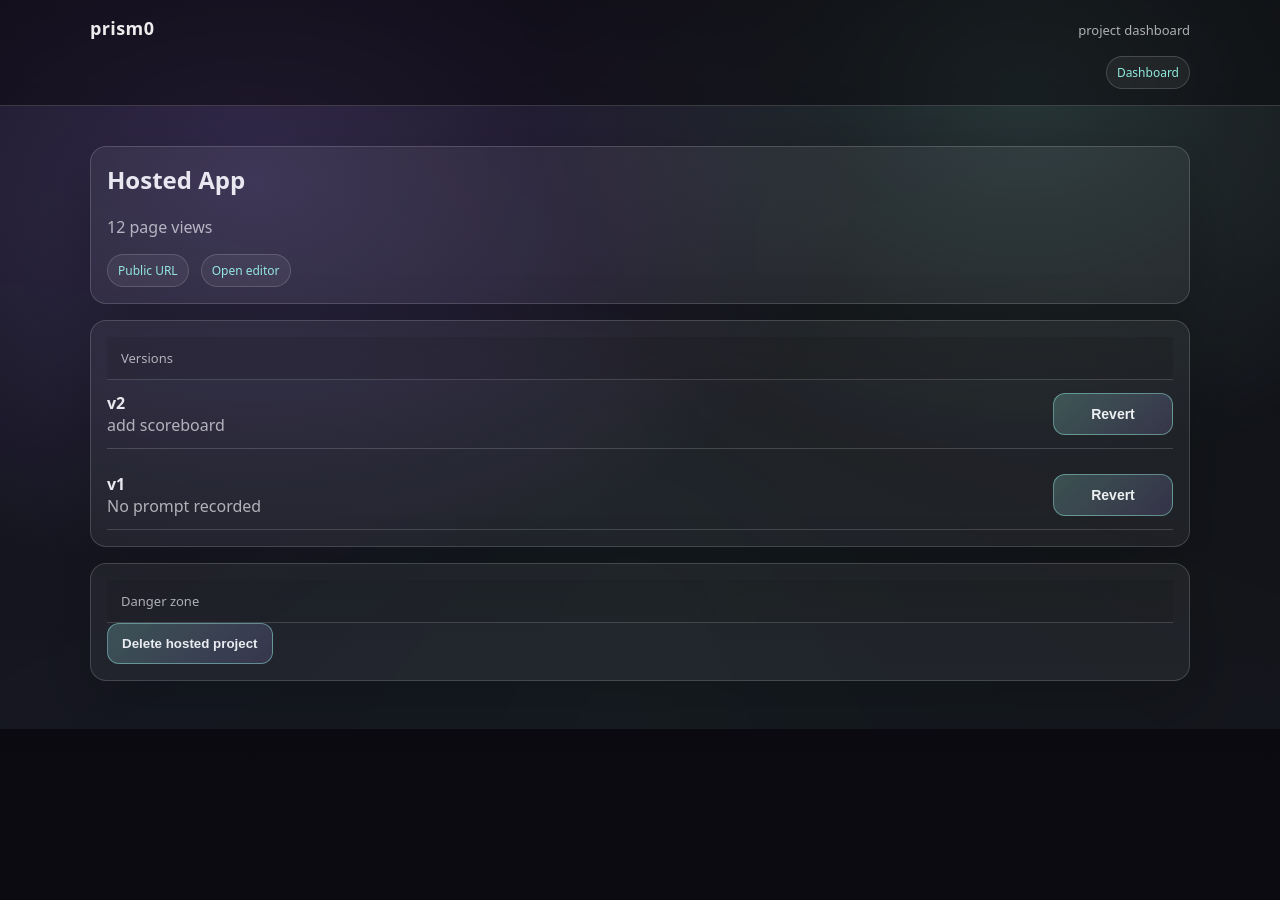
it: ProjectManagePage › shows revert errors from non-error rejections
Expected: the heading "Hosted App" is shown, [107,163,245,196]
Click the button "Revert" in the row of "add scoreboard".
click(1113, 414)  # box [1053,393,1173,435]
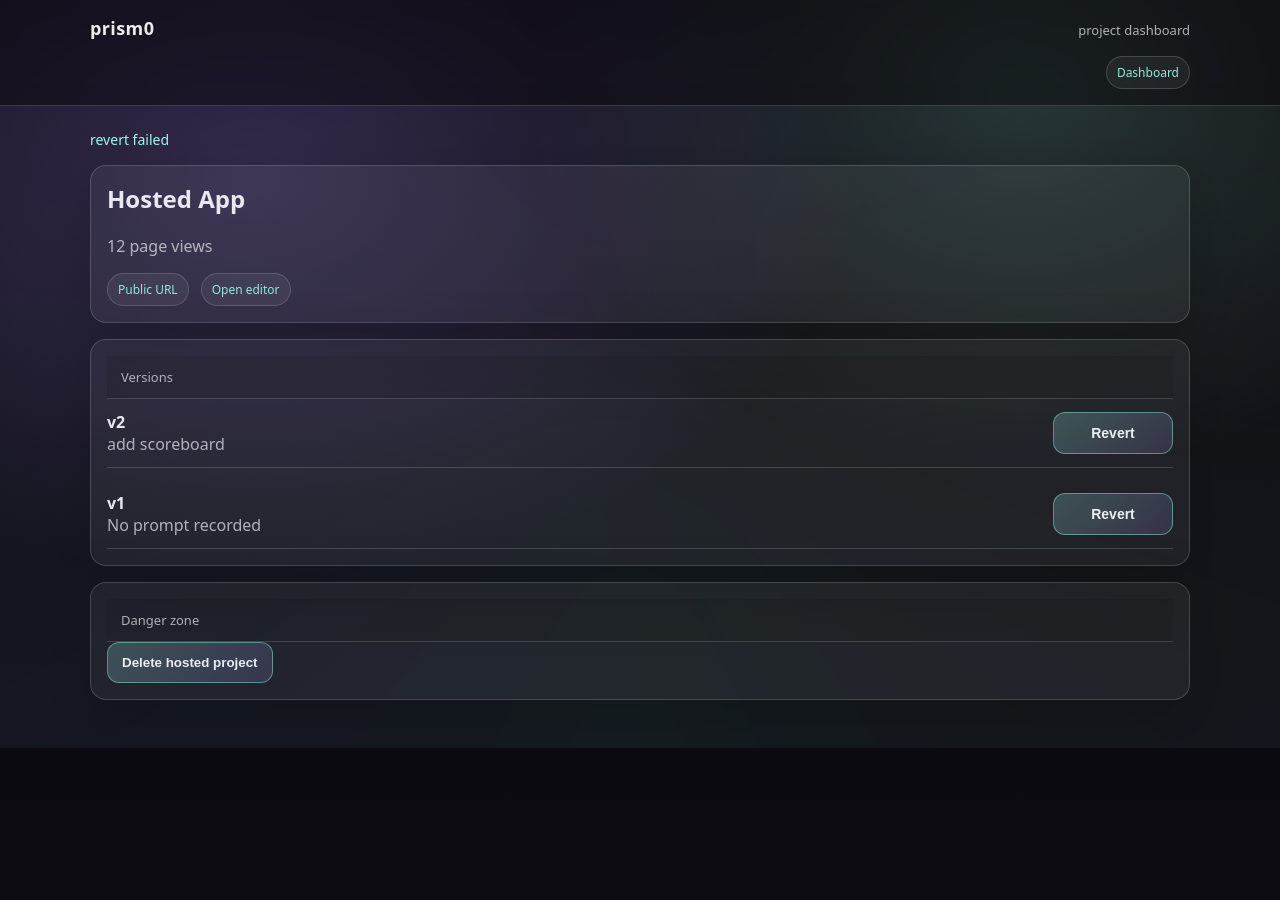
Expected: the text "revert failed" is shown, [90,130,169,149]
